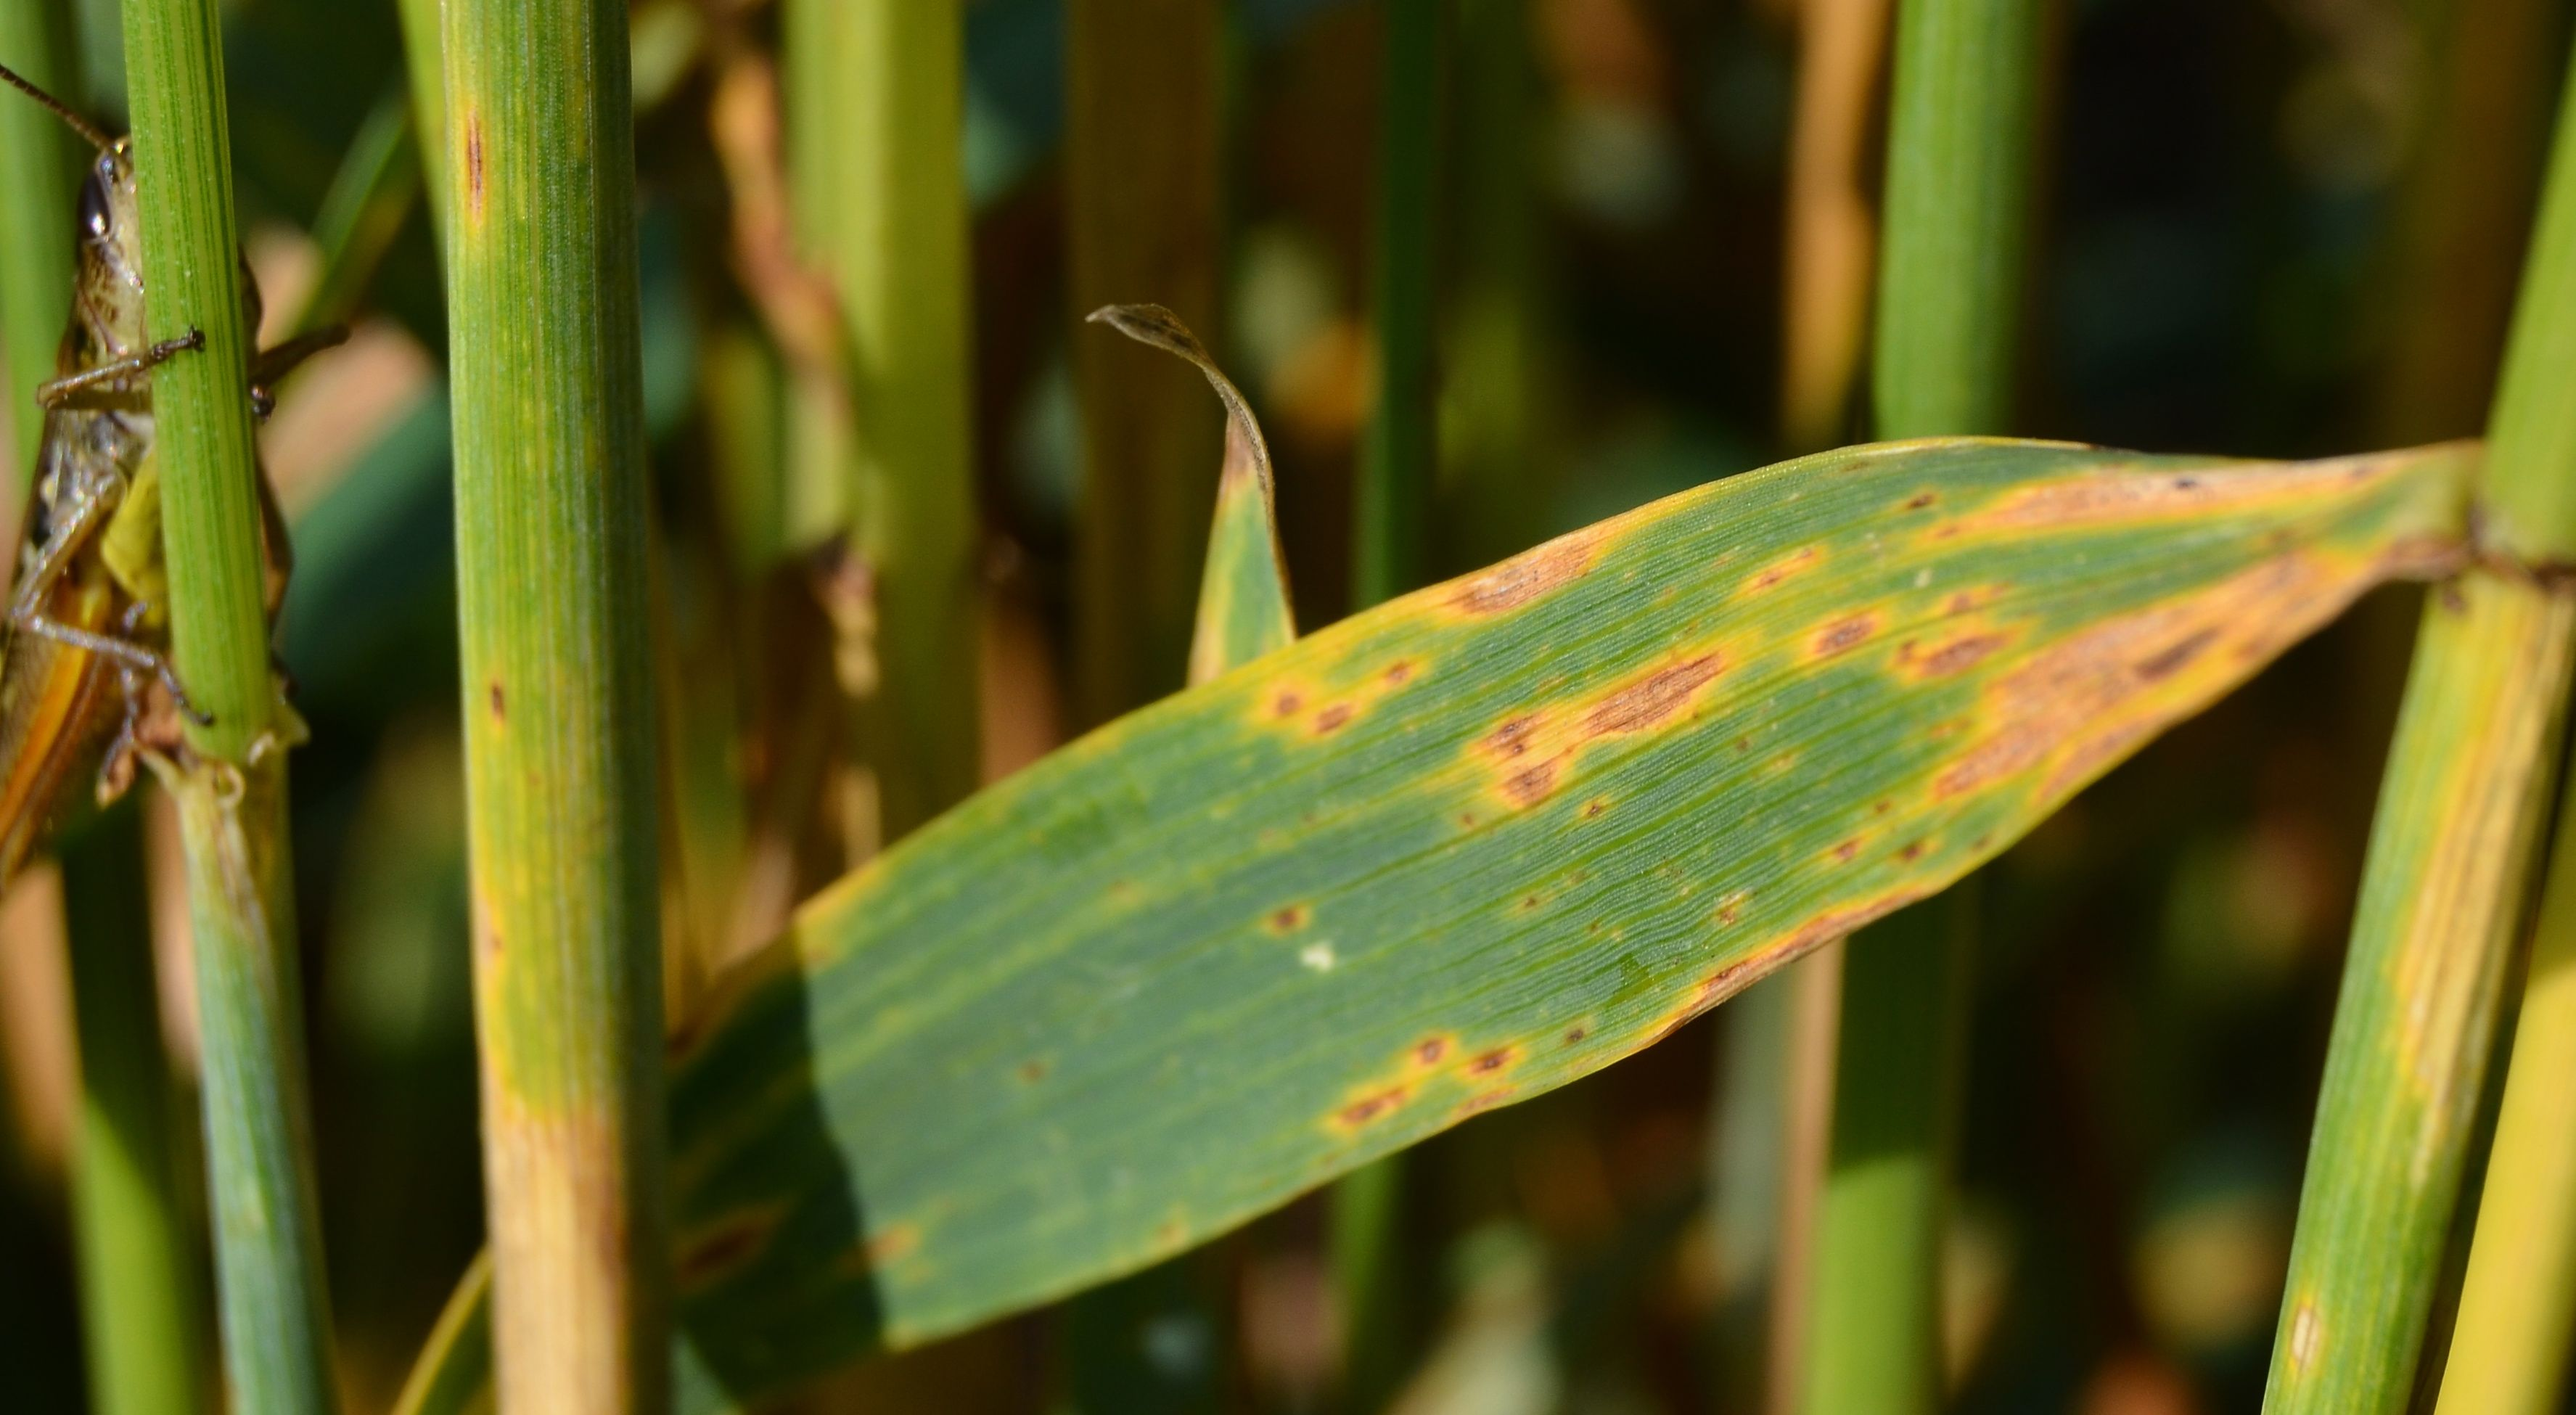Leaf: (612, 504, 2278, 1305)
Tan Spot: (1804, 606, 2237, 751), (1451, 671, 1785, 777), (1258, 649, 1417, 739), (1434, 570, 1582, 610)
